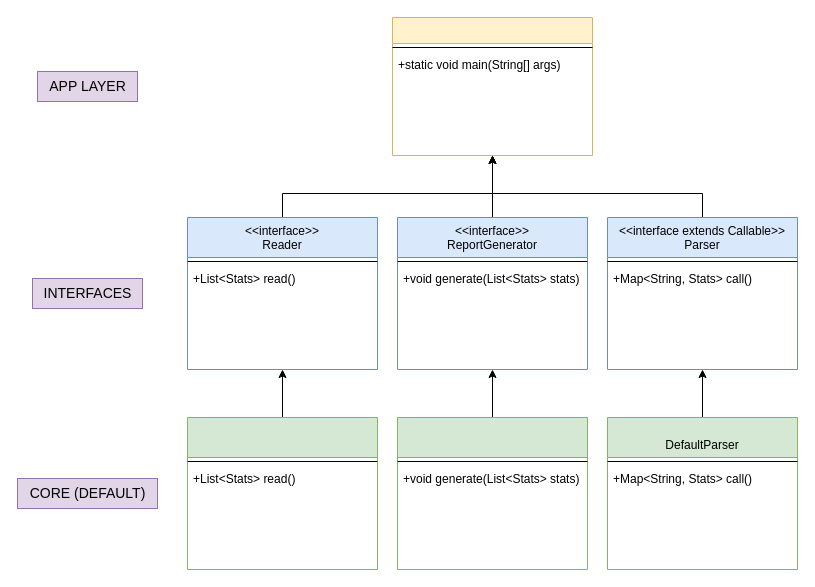
This 815x587 diagram has some shape labels left out. Each missing label, with the box of its shape:
App: (392, 16, 592, 156)
DefaultReader: (186, 416, 378, 570)
DefaultReportGenerator: (396, 416, 588, 570)
